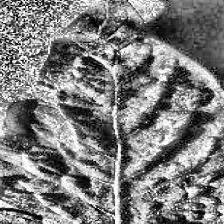Blossom Blight: (55, 99, 92, 153), (28, 195, 88, 224), (142, 59, 176, 107), (145, 116, 185, 146), (194, 141, 220, 165)
